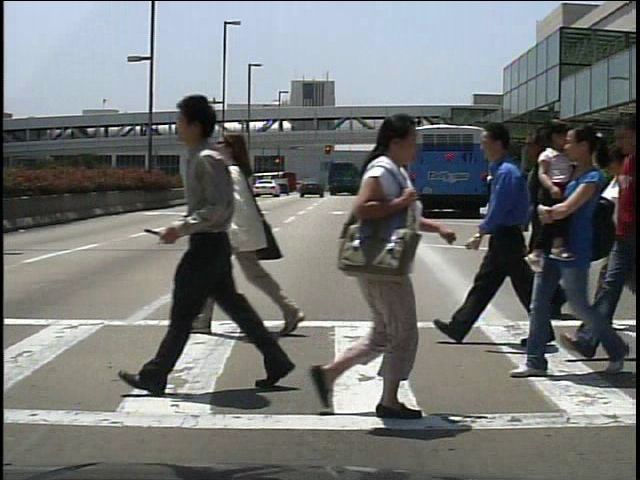person: (141, 80, 314, 418), (309, 113, 440, 424), (183, 118, 314, 343), (456, 115, 546, 345), (506, 130, 578, 322), (604, 143, 636, 348), (582, 168, 602, 218), (487, 162, 505, 215)
